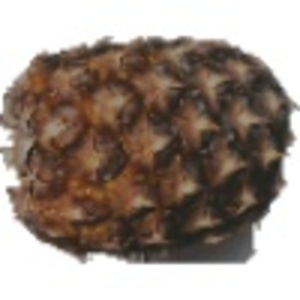abacaxi: (3, 27, 292, 251)
